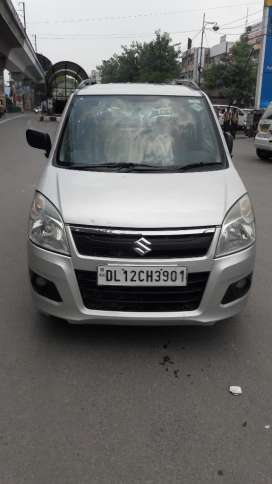license_plate: (96, 265, 189, 287)
